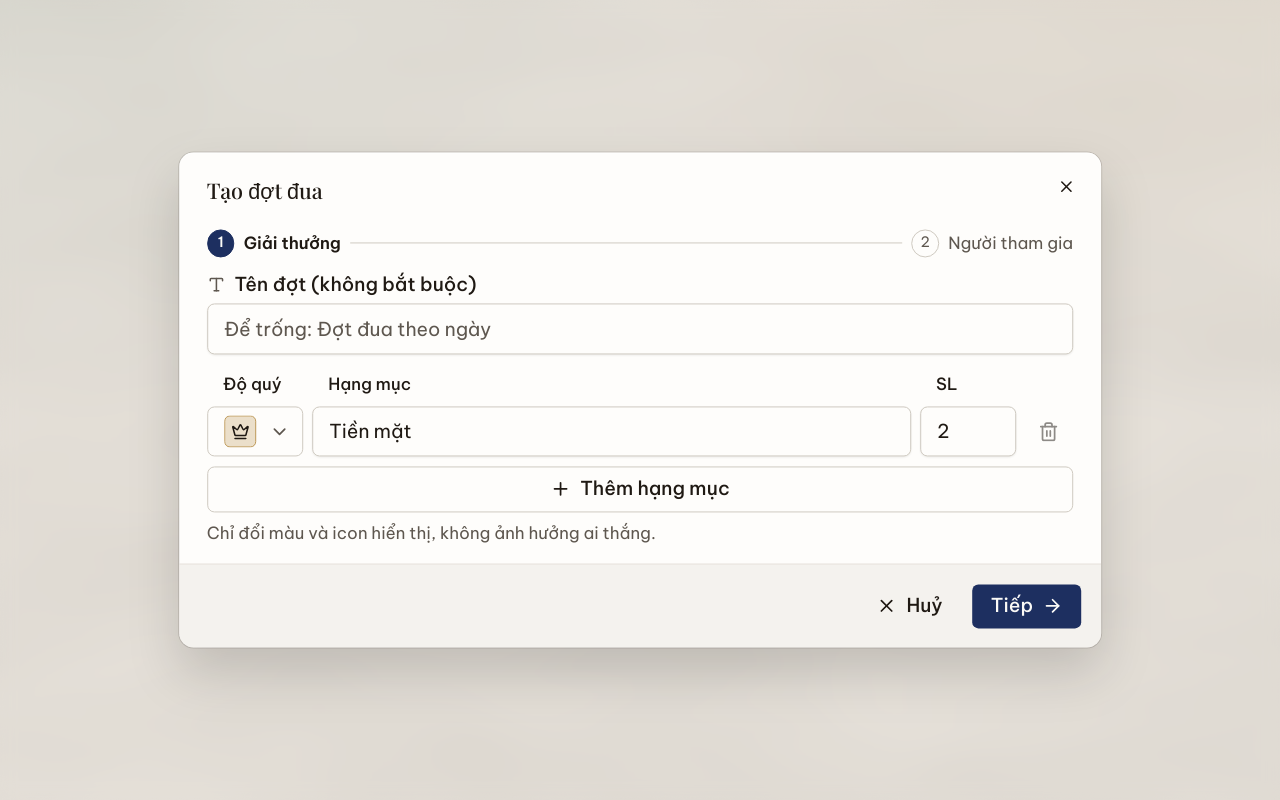
Test: CreateCatRaceDialog › keeps the prizes and name after stepping back from the roster
Type "Tết" into the field labelled "Tên đợt (không bắt buộc)" at (640, 329), box [207, 304, 1073, 354]
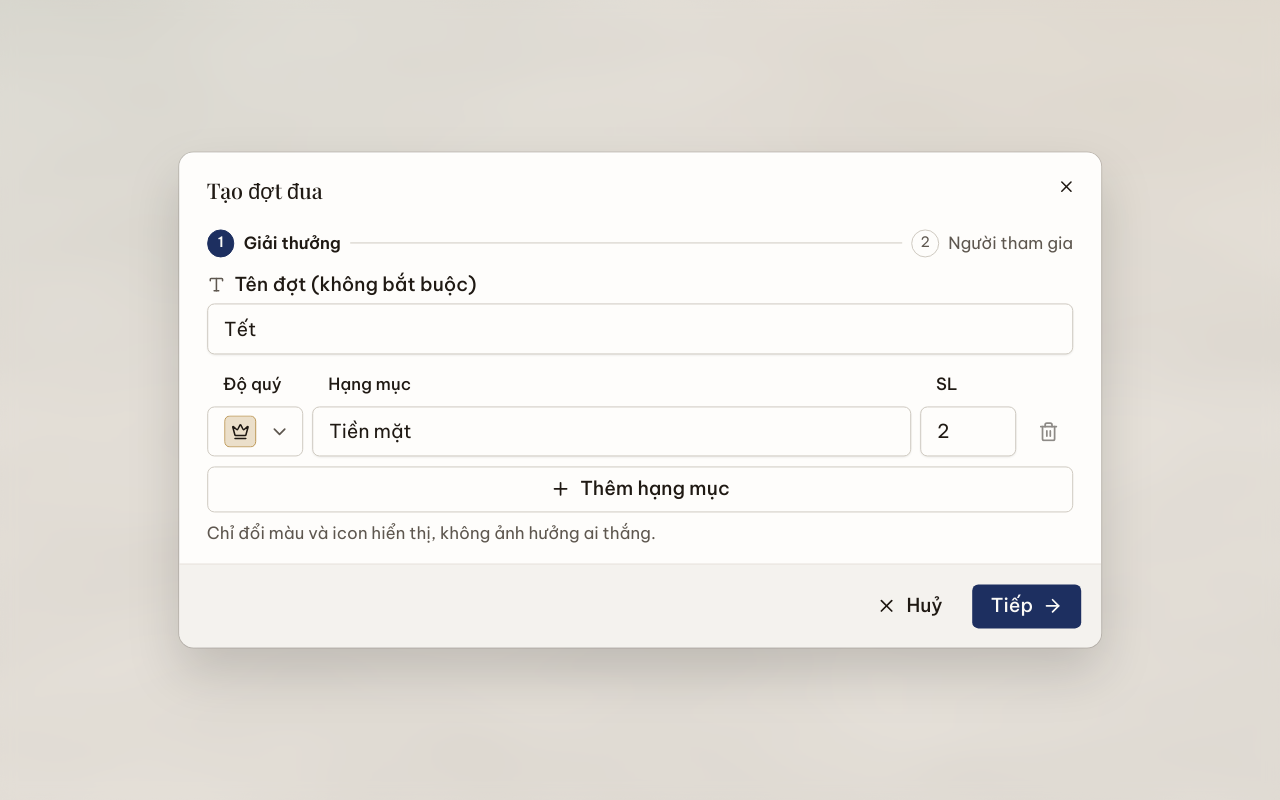
Click the button "Tiếp" at (1027, 606), box [971, 583, 1082, 629]
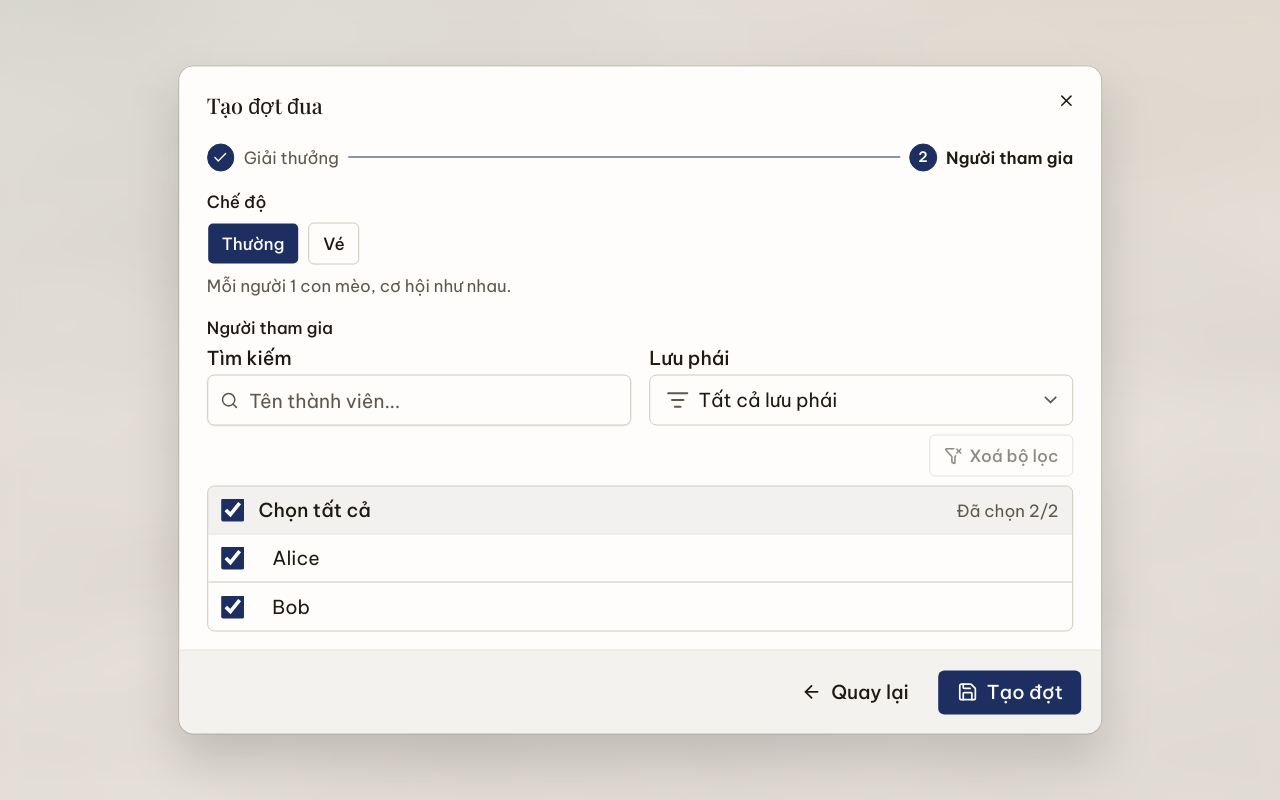
Click the button "Quay lại" at (855, 692), box [782, 669, 928, 715]
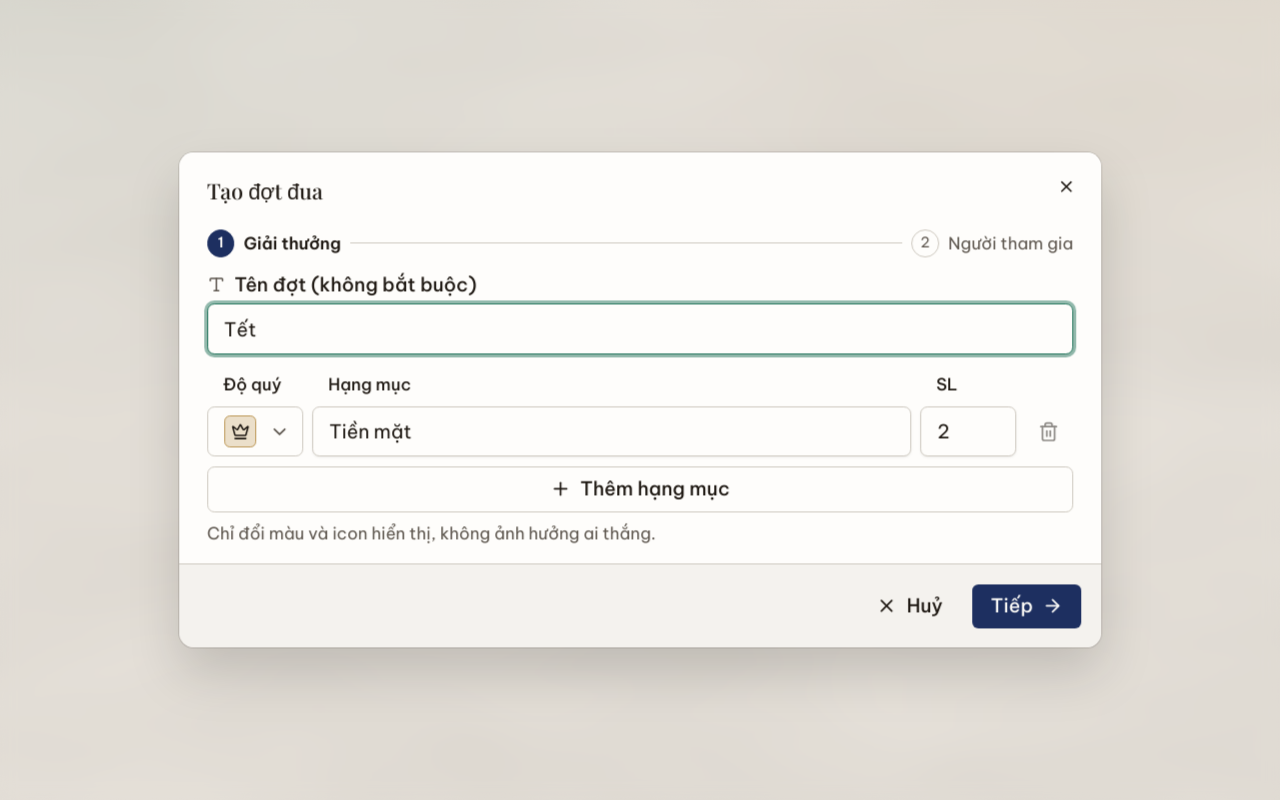
Check: the field labelled "Tên đợt (không bắt buộc)" holds "Tết", box [207, 304, 1073, 354]
Check: the field named "Tên hạng mục 1" holds "Tiền mặt", box [312, 406, 911, 457]
